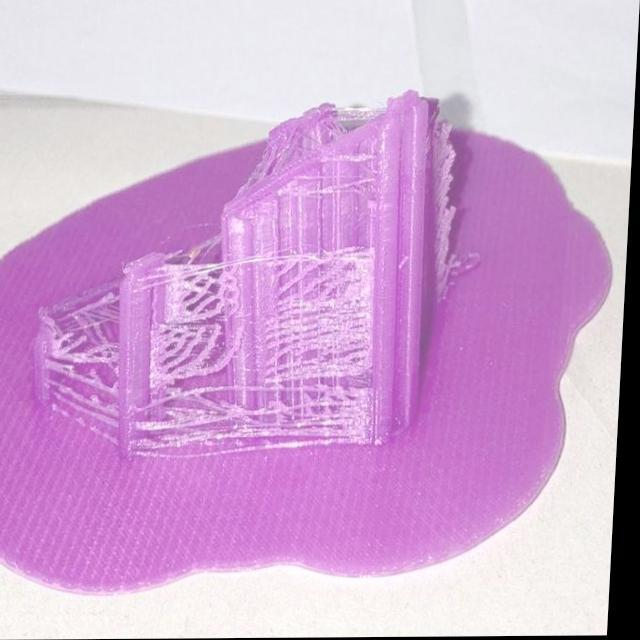stringing: (282, 262, 371, 376), (276, 380, 382, 451), (139, 391, 248, 454), (52, 344, 120, 431), (159, 267, 240, 334), (149, 328, 249, 379)
